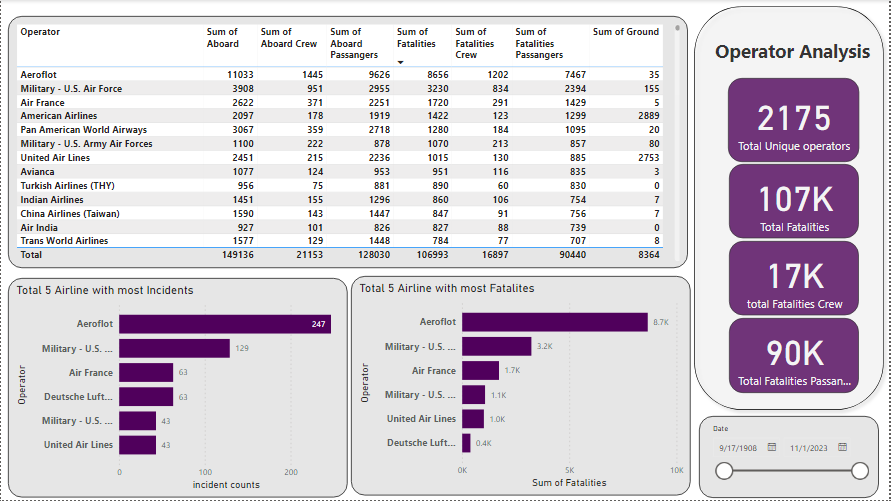

What the dashboard file says about the page in this screenshot:
{"tool":"powerbi","page":{"name":"Operator Performance","canvas":[1280,720],"ordinal":3},"visuals":[{"type":"card","fields":{"Values":["Sum(Airplane Crashes Analysis.Fatalities)"]},"box":[1048.3,236.2,187.2,106.6],"z":0},{"type":"card","fields":{"Values":["Sum(Airplane Crashes Analysis.Fatalities Crew)"]},"box":[1048.3,347,187.2,106.6],"z":1000},{"type":"card","fields":{"Values":["Measure.Total Unique operators"]},"box":[1046.9,112.3,188.6,121],"z":2000},{"type":"card","fields":{"Values":["Sum(Airplane Crashes Analysis.Fatalities Passangers)"]},"box":[1048.3,457.9,187.2,108],"z":3000},{"type":"slicer","fields":{"Values":["Airplane Crashes Analysis.Date"]},"box":[1005.1,599,259.2,118.1],"z":4000},{"type":"textbox","box":[1015.2,49,249.1,49],"z":6000},{"type":"tableEx","title":"Total Fatalities by AC type","fields":{"Values":["Airplane Crashes Analysis.Operator","Sum(Airplane Crashes Analysis.Aboard)","Sum(Airplane Crashes Analysis.Aboard Crew)","Sum(Airplane Crashes Analysis.Aboard Passangers)","Sum(Airplane Crashes Analysis.Fatalities)","Sum(Airplane Crashes Analysis.Fatalities Crew)","Sum(Airplane Crashes Analysis.Fatalities Passangers)","Sum(Airplane Crashes Analysis.Ground)"]},"box":[10.1,23,979.2,362.9],"z":7000},{"type":"barChart","title":"Total 5 Airline with most Incidents","fields":{"Category":["Airplane Crashes Analysis.Operator"],"Y":["Measure.incident counts"]},"box":[10.1,399.8,488.8,315.8],"z":8000},{"type":"barChart","title":"Total 5 Airline with most Fatalites","fields":{"Category":["Airplane Crashes Analysis.Operator"],"Y":["Sum(Airplane Crashes Analysis.Fatalities)"]},"box":[503.9,398.1,488.8,315.8],"z":9000},{"type":"shape","box":[989.3,0,290.9,599],"z":10000}]}

Visuals, with their boxes in screenshot pixels (x1, y1, x2, y2), scaled from the page's 1280x720 canvas onto the 891x501 screenshot:
card - Sum(Airplane Crashes Analysis.Fatalities): [x1=730, y1=164, x2=860, y2=239]
card - Sum(Airplane Crashes Analysis.Fatalities Crew): [x1=730, y1=241, x2=860, y2=316]
card - Measure.Total Unique operators: [x1=729, y1=78, x2=860, y2=162]
card - Sum(Airplane Crashes Analysis.Fatalities Passangers): [x1=730, y1=319, x2=860, y2=394]
slicer - Airplane Crashes Analysis.Date: [x1=700, y1=417, x2=880, y2=499]
textbox: [x1=707, y1=34, x2=880, y2=68]
"Total Fatalities by AC type" tableEx: [x1=7, y1=16, x2=689, y2=269]
"Total 5 Airline with most Incidents" barChart: [x1=7, y1=278, x2=347, y2=498]
"Total 5 Airline with most Fatalites" barChart: [x1=351, y1=277, x2=691, y2=497]
shape: [x1=689, y1=0, x2=890, y2=417]
